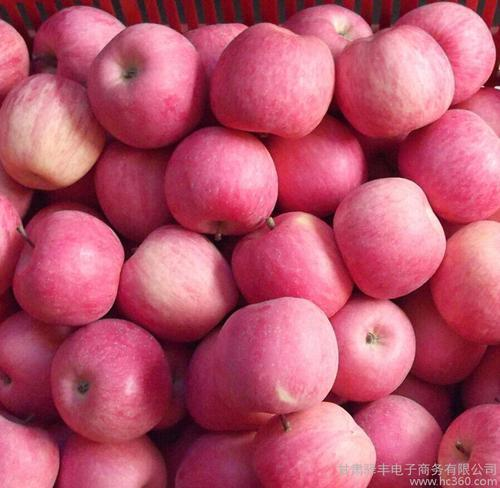apple: (47, 320, 174, 442), (90, 21, 209, 148), (210, 22, 334, 141), (118, 224, 238, 342), (332, 176, 446, 300), (218, 296, 339, 412), (336, 24, 458, 137), (10, 209, 124, 325), (231, 212, 354, 318), (1, 74, 108, 192), (163, 127, 277, 235), (400, 110, 498, 222), (252, 403, 378, 488), (327, 297, 418, 400), (27, 5, 126, 84), (52, 433, 172, 488), (437, 400, 500, 488)
